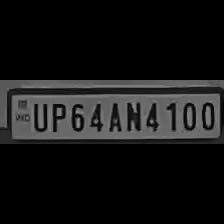0: (178, 98, 198, 130), (197, 98, 217, 130)
1: (161, 98, 179, 132)
4: (142, 98, 160, 132), (86, 99, 104, 131)
6: (66, 100, 86, 132)
A: (104, 98, 122, 132)
N: (122, 98, 142, 132)
P: (47, 100, 66, 132)
U: (28, 99, 48, 131)
